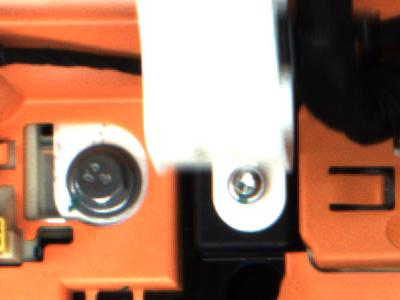nut_b: (68, 144, 141, 221)
